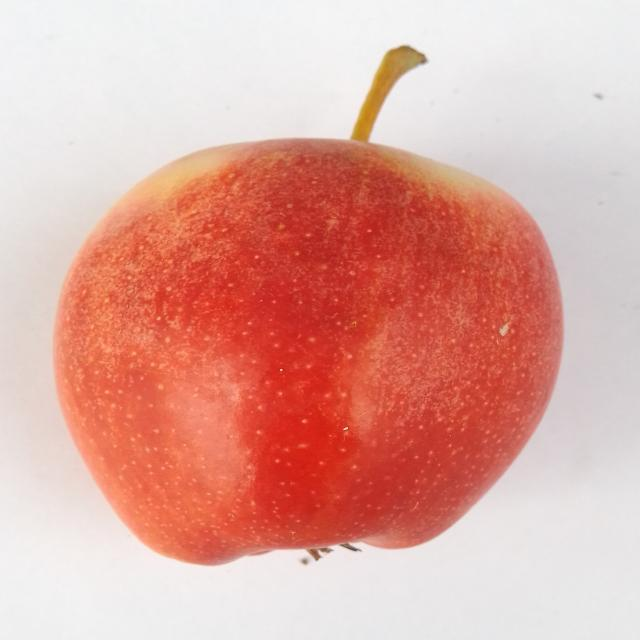Fresh Apple: (48, 125, 567, 573)
